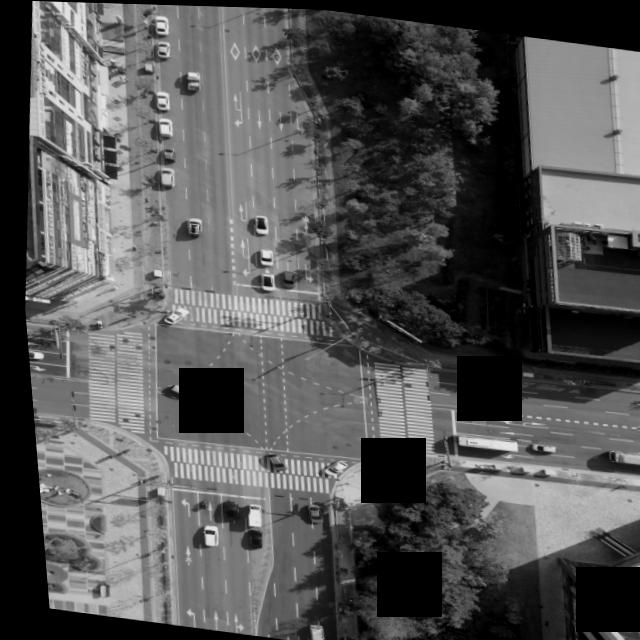car: (312, 456, 343, 478), (156, 304, 186, 325), (294, 618, 318, 640), (165, 381, 195, 397), (155, 165, 175, 187), (238, 525, 257, 548), (155, 116, 174, 137), (259, 452, 280, 471), (192, 522, 210, 544), (298, 500, 316, 522), (250, 213, 268, 234), (214, 500, 232, 520), (154, 90, 171, 110), (154, 15, 171, 34), (522, 441, 551, 452), (184, 217, 201, 235), (255, 247, 272, 264), (255, 272, 272, 289), (155, 42, 172, 59), (159, 146, 175, 164), (277, 270, 291, 285), (22, 349, 38, 359)
large_bus: (445, 429, 514, 449), (598, 443, 640, 463)
small_truck: (183, 67, 203, 92), (238, 503, 256, 526)
